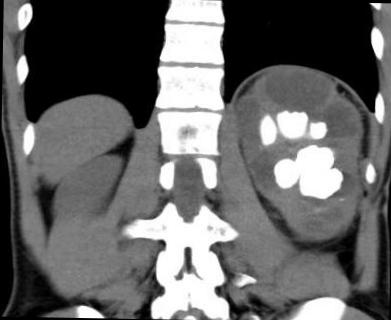Tas_Var: (270, 142, 358, 200), (274, 106, 310, 144), (254, 112, 278, 148), (308, 116, 331, 141), (337, 198, 345, 202)
